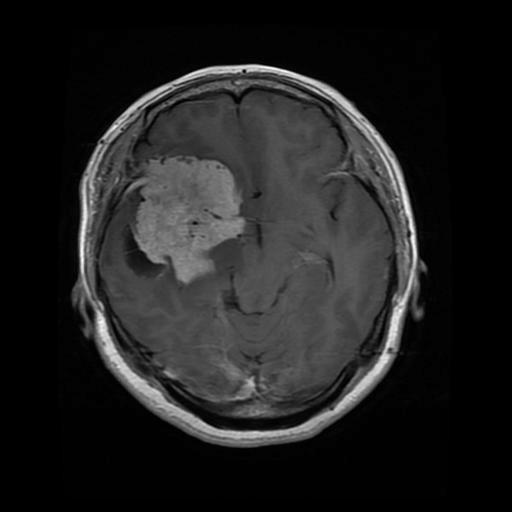Tumour-Meningioma: (125, 132, 269, 295)
